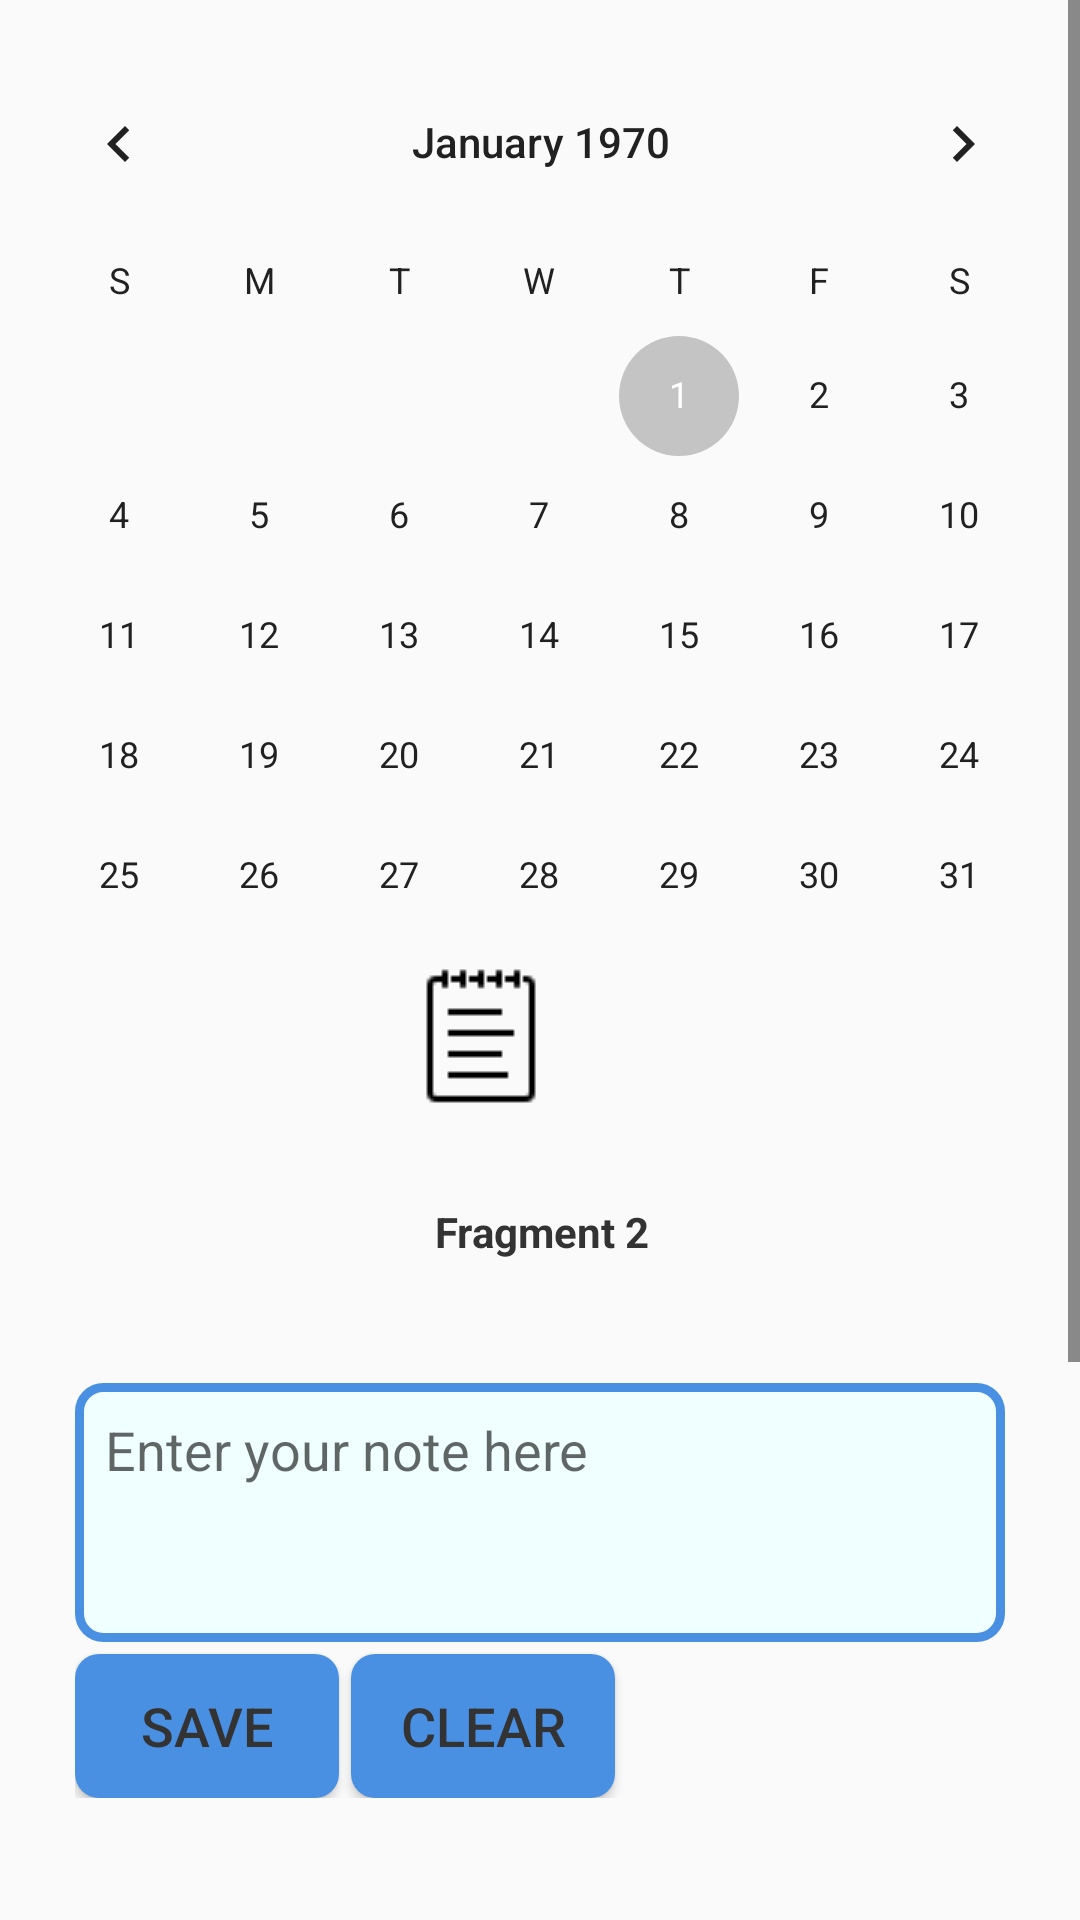

Point at icon controls on the screen. Image size 1080*1920, points as (x,y).
Text Note: (481,1036)
